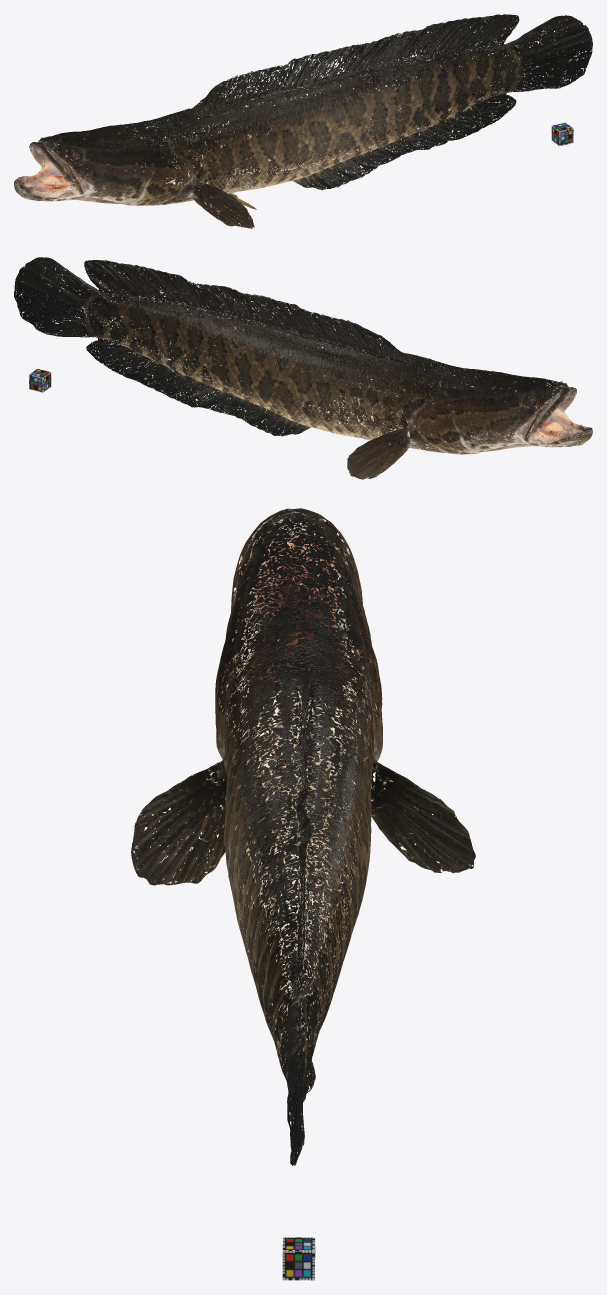
The model's file is scan_snakehead.glb.
The picture shows the model from 3 angles, top to bottom: view 1: azimuth 30°, elevation 25°; view 2: azimuth 150°, elevation 25°; view 3: azimuth 270°, elevation 25°; orthographic projection. The views are drawn at different scales.
Visible parts, largest first — view 1: Object_6, Object_12, Object_17, Object_4; view 2: Object_6, Object_12, Object_17, Object_4; view 3: Object_6, Object_12, Object_17, Object_4.
Part boxes in pixels (x1,y1,x2,y2): Object_6: [15, 14, 592, 228]; Object_12: [15, 14, 592, 226]; Object_17: [14, 14, 591, 227]; Object_4: [551, 122, 573, 146]; Object_6: [15, 257, 590, 476]; Object_12: [14, 257, 592, 479]; Object_17: [14, 257, 592, 479]; Object_4: [29, 368, 51, 392]; Object_6: [131, 511, 473, 1165]; Object_12: [133, 508, 475, 1165]; Object_17: [131, 508, 474, 1164]; Object_4: [282, 1237, 315, 1280].
Size of the model in its own units: 16.4 by 4.02 by 4.26.
4 materials, 4 textured.
